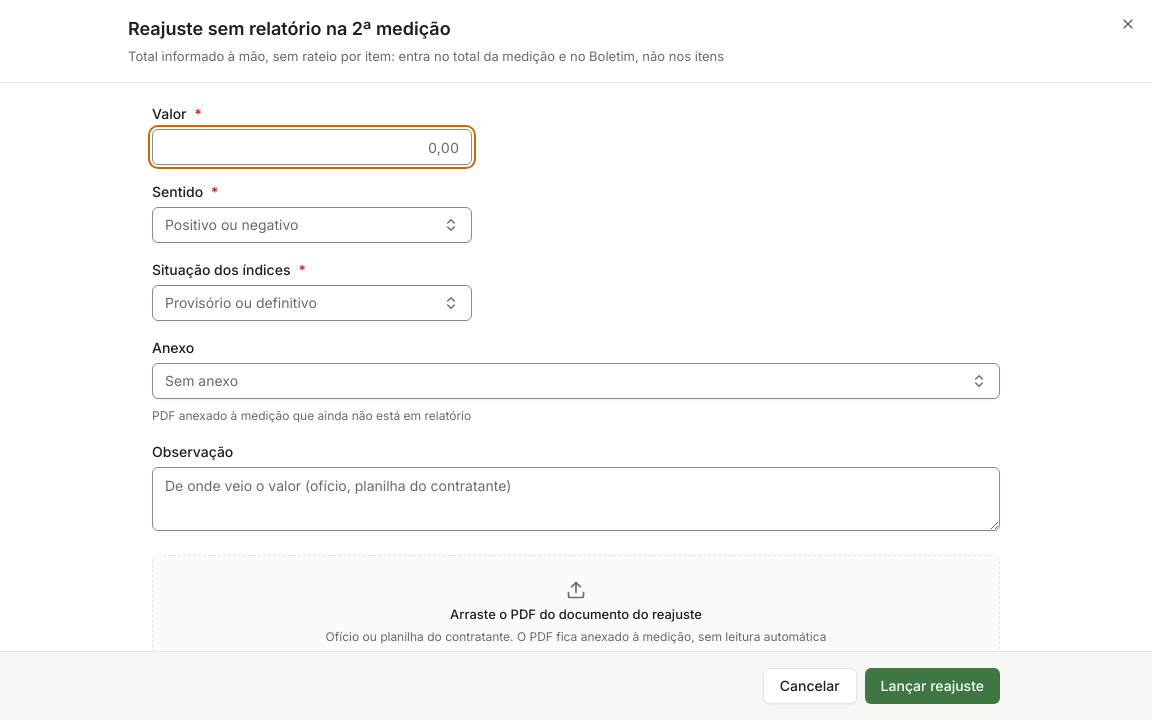
Test case: ReajusteManualDrawer › sem valor, sentido e situação não vai ao servidor e diz o que falta
The width and height of the screenshot is (1152, 720).
Click the button "Lançar reajuste": point(932, 686) [865,668,1000,704]
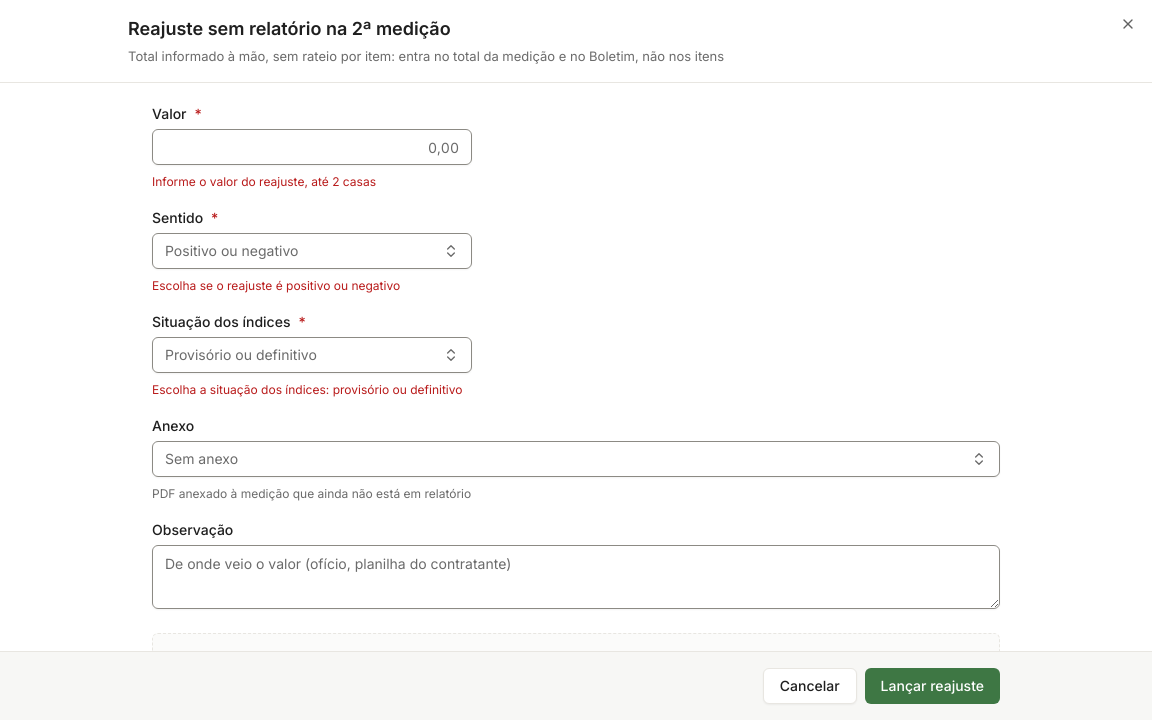
Expected: the text "Informe o valor do reajuste, até 2 casas" is shown, [152,174,376,189]
Expected: the text "Escolha se o reajuste é positivo ou negativo" is shown, [152,278,400,293]
Expected: the text "Escolha a situação dos índices: provisório ou definitivo" is shown, [152,381,472,399]
